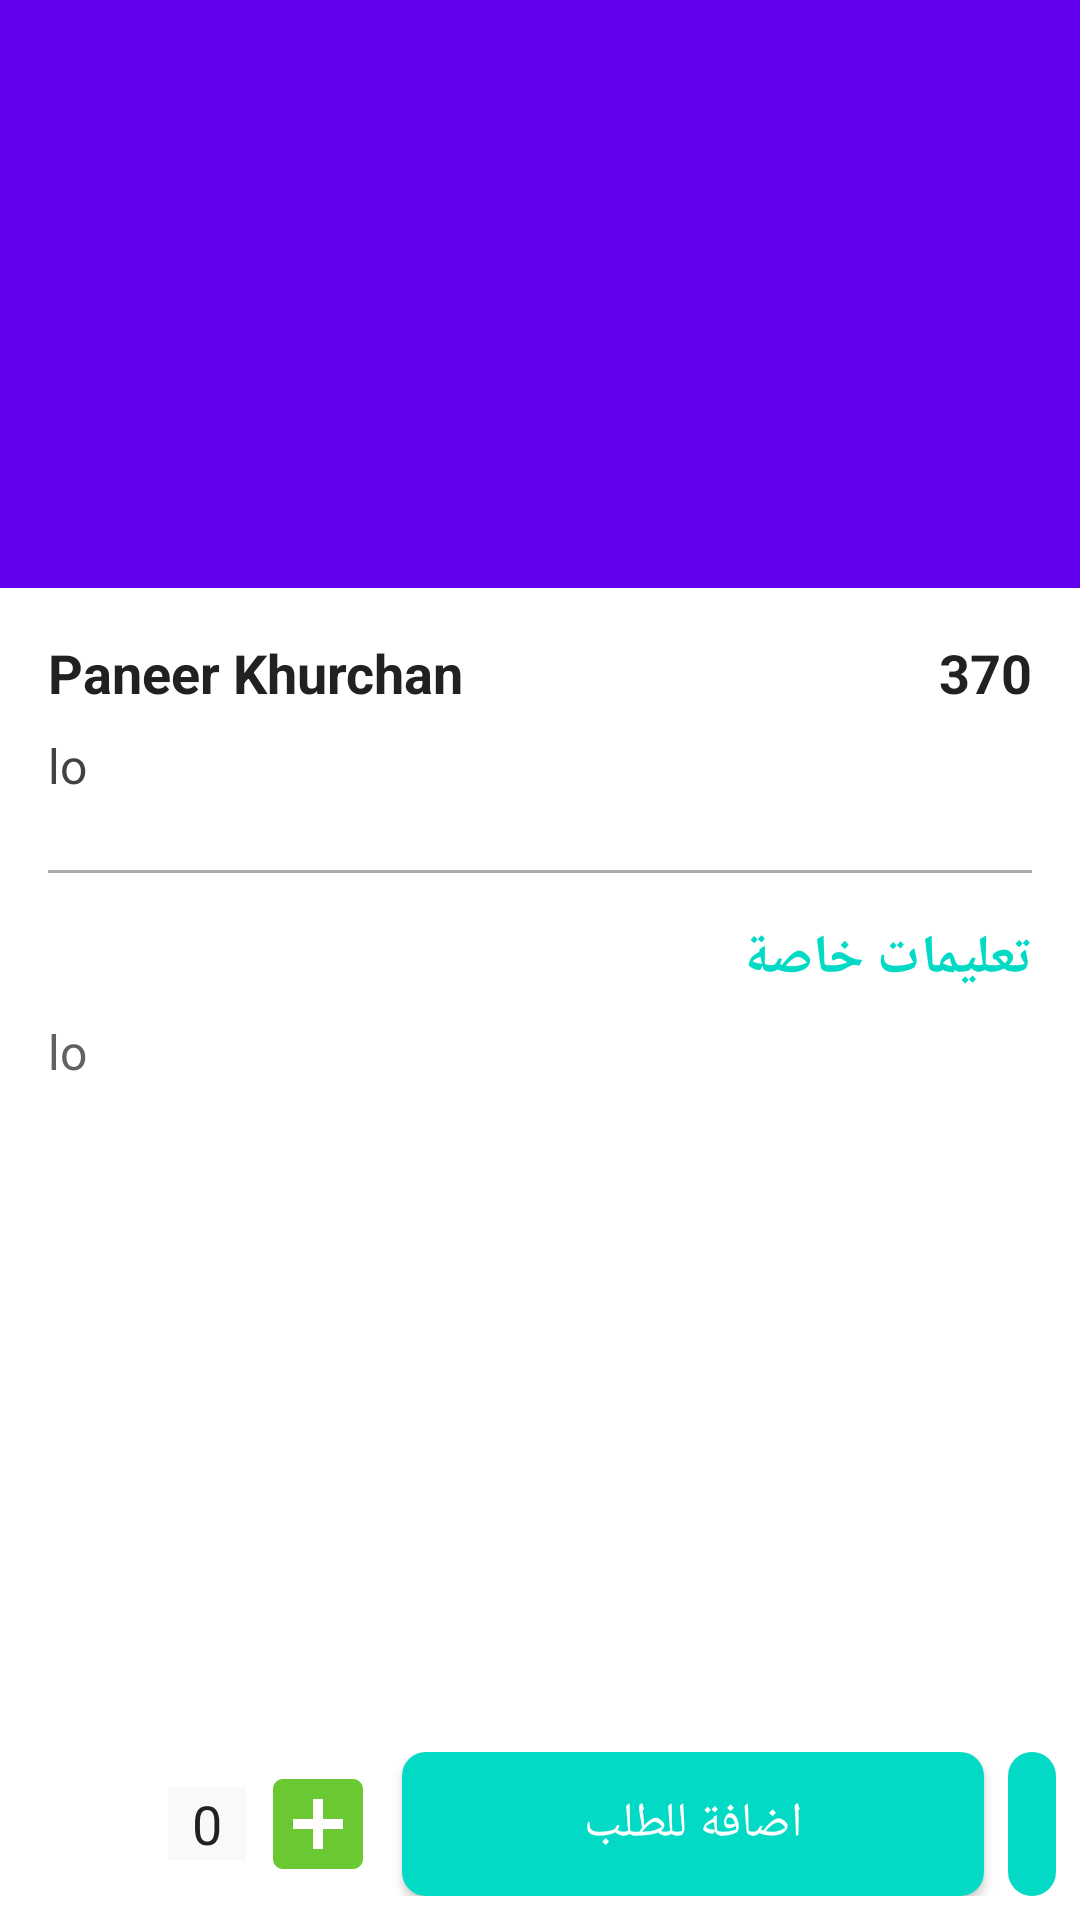

Screen size 1080px x 1920px. Icon name, then its box in pixels as (x1, y1, x2, y2):
plus: (273, 1779, 363, 1869)
